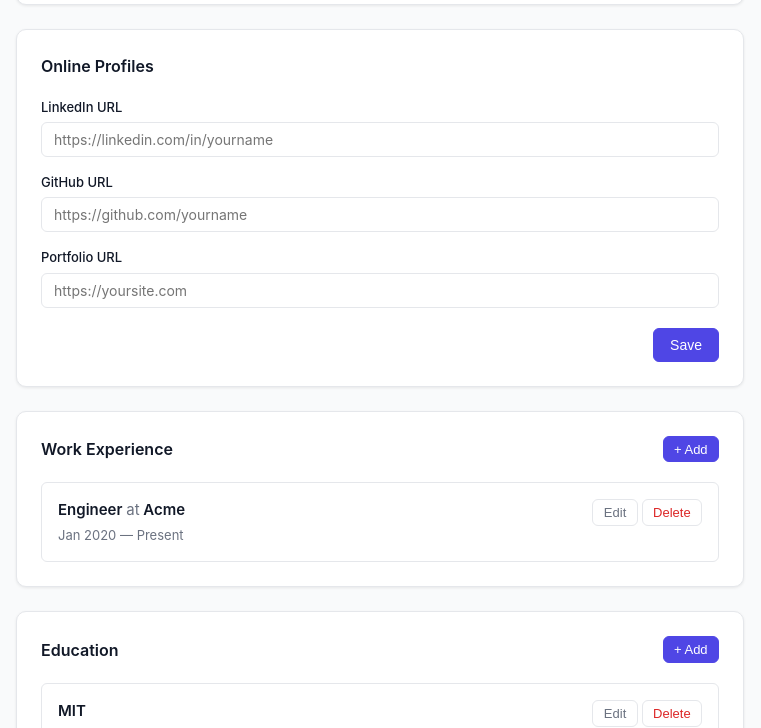
Test case: ProfileView › displays API error message when experience creation fails
(page scrolled)
Click the button "+ Add" in the row of "Work Experience" at (691, 449), box [663,436,719,462]
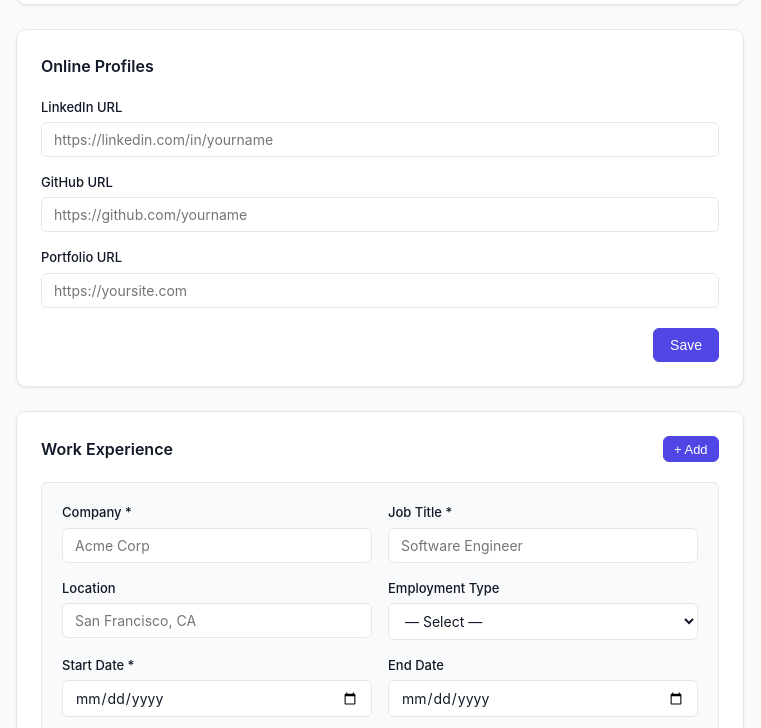
Type "Acme" into the field with id "exp-company" at (217, 545), box [62,528,372,563]
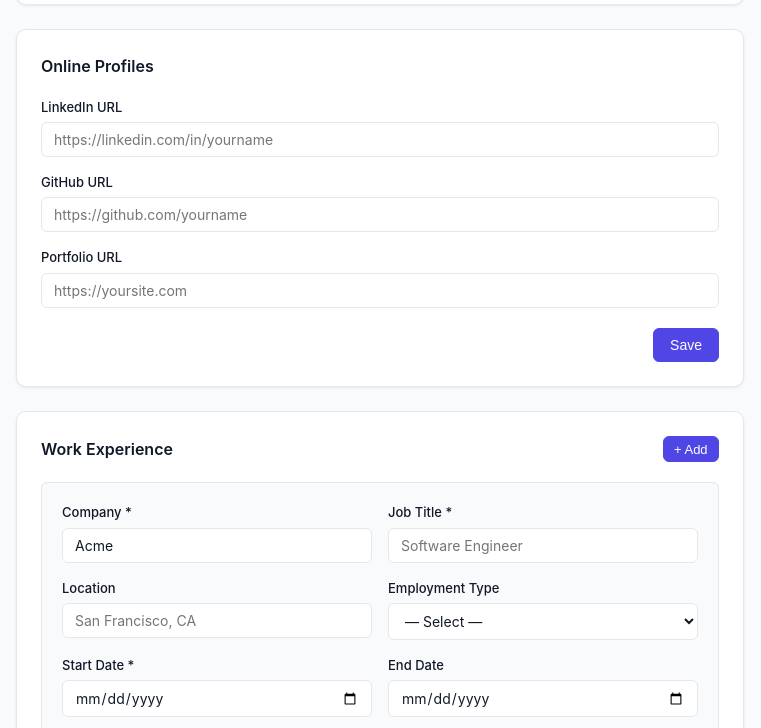
Type "Engineer" into the field with id "exp-title" at (543, 545), box [388,528,698,563]
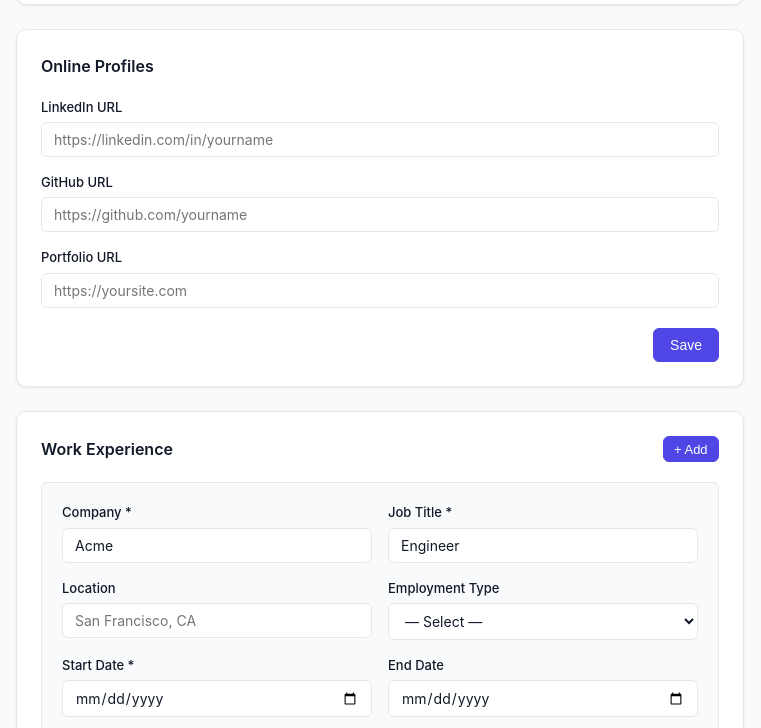
Type "2020-01-01" into the date field with id "exp-start" at (217, 699), box [62,680,372,717]
(page scrolled)
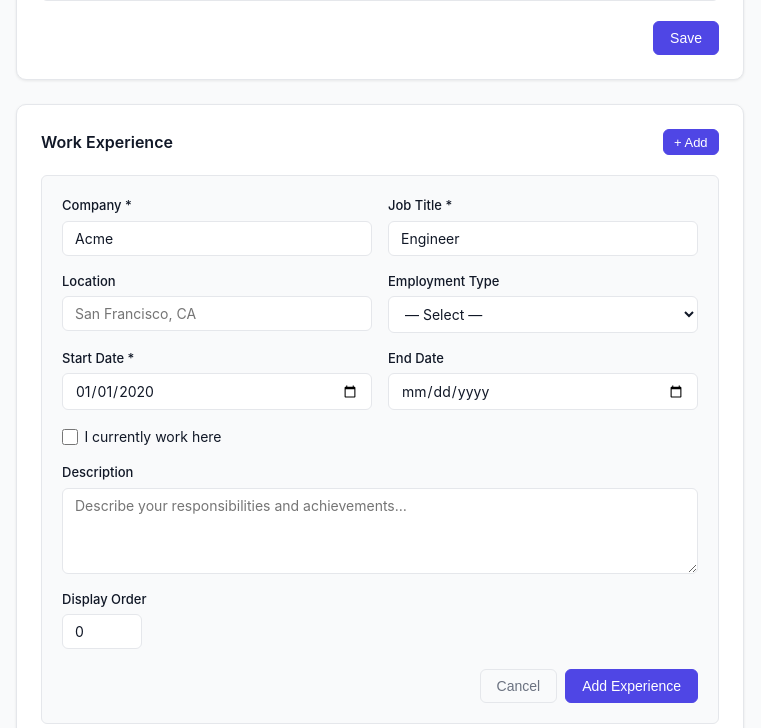
Submit the form that starts with "Company", box [62,196,698,703]
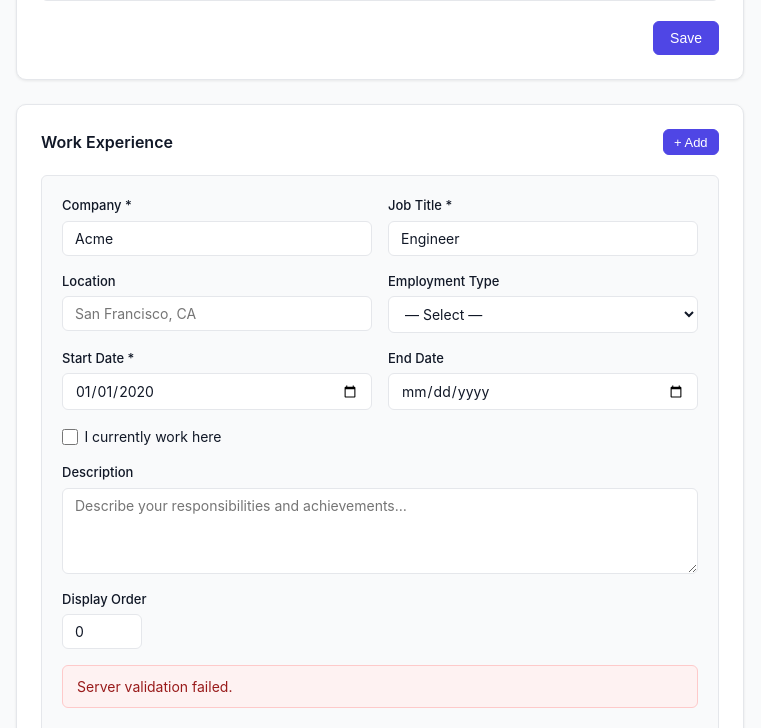
Expected: the text "Server validation failed." is shown, [62,665,698,708]
